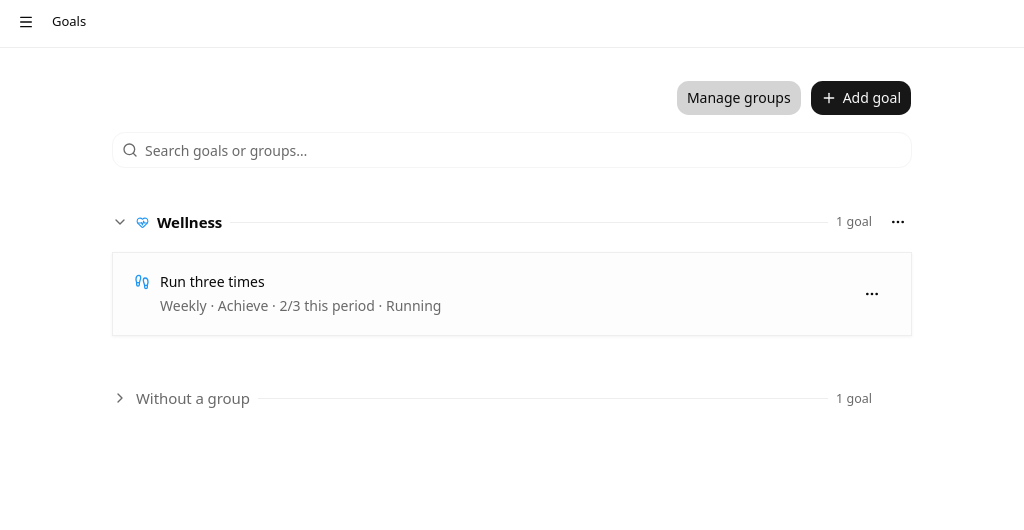
Test: Library · Goals › opens the ungrouped fallback bucket on demand
The width and height of the screenshot is (1024, 530).
Step 1. Click the button "Without a group" → {"x": 193, "y": 398}, box [112, 376, 828, 420]
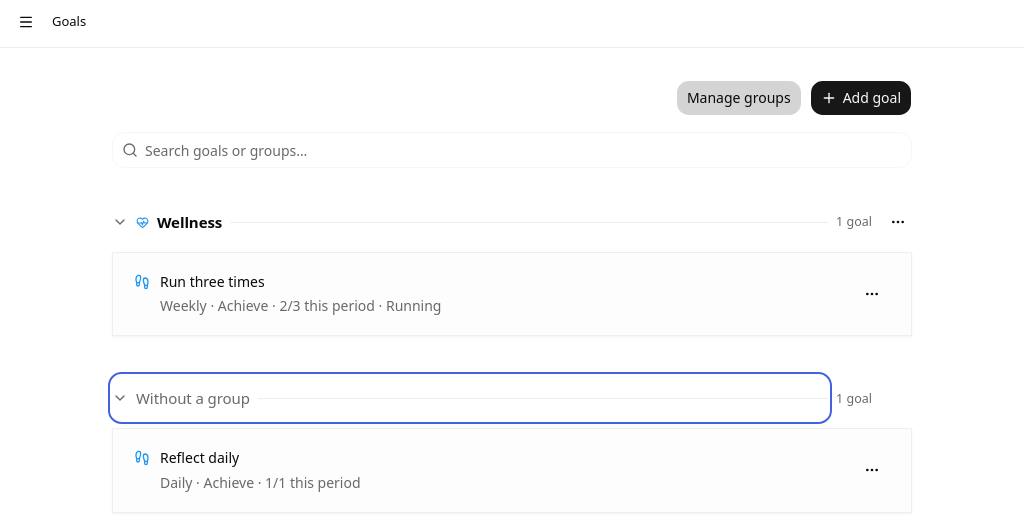
Expected: the text "Reflect daily" is shown, [160, 448, 239, 468]
